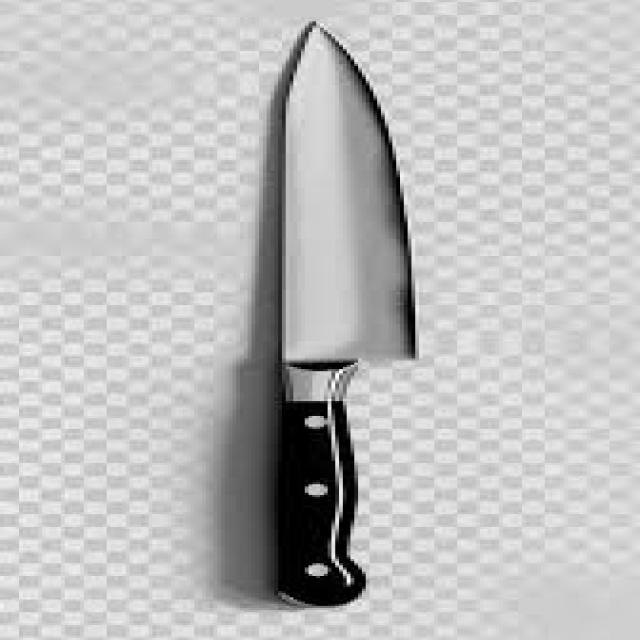Knife: (267, 19, 415, 606)
